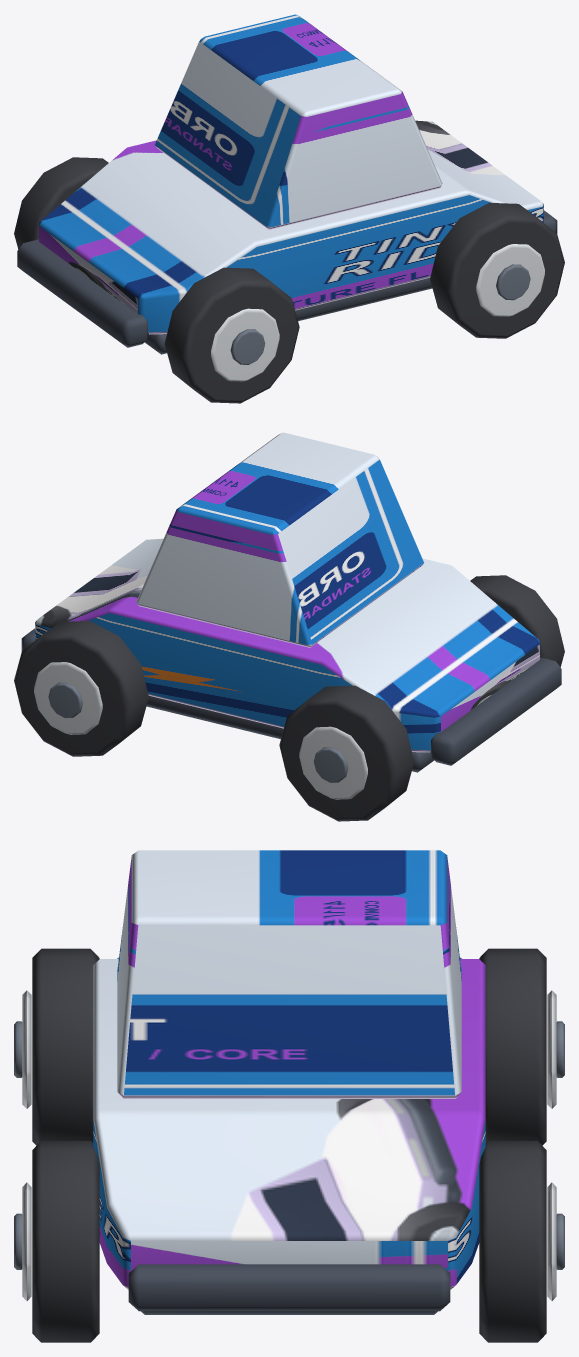
The picture shows the model from 3 angles, top to bottom: view 1: azimuth 30°, elevation 25°; view 2: azimuth 150°, elevation 25°; view 3: azimuth 270°, elevation 25°; orthographic projection. The views are drawn at different scales.
Parts seen in each view (by area): view 1: FF-02_connected_shell, FF-02_cabin, Tire.002, Tire, front bumper, Tire.001, Rim, Rim.002, underbody, Hub.002, Hub; view 2: FF-02_connected_shell, FF-02_cabin, Tire.003, Tire.001, front bumper, Tire, Rim.001, Rim.003, underbody, Hub.003, Hub.001; view 3: FF-02_cabin, FF-02_connected_shell, rear bumper, Tire.002, Tire.003, Tire, Tire.001, underbody, Rim, Rim.001, Rim.002, Rim.003.
Part boxes in pixels (left/top/right/bottom): FF-02_connected_shell: left=39, top=120, right=543, bottom=334; FF-02_cabin: left=155, top=14, right=442, bottom=229; Tire.002: left=430, top=202, right=564, bottom=338; Tire: left=164, top=267, right=299, bottom=403; front bumper: left=17, top=239, right=148, bottom=347; Tire.001: left=14, top=157, right=108, bottom=248; Rim: left=211, top=308, right=279, bottom=381; Rim.002: left=476, top=244, right=544, bottom=316; underbody: left=144, top=277, right=432, bottom=354; Hub.002: left=496, top=264, right=530, bottom=300; Hub: left=230, top=329, right=265, bottom=364; FF-02_connected_shell: left=35, top=538, right=539, bottom=752; FF-02_cabin: left=136, top=432, right=423, bottom=647; Tire.003: left=14, top=620, right=148, bottom=756; Tire.001: left=279, top=685, right=414, bottom=821; front bumper: left=430, top=657, right=561, bottom=765; Tire: left=470, top=575, right=564, bottom=666; Rim.001: left=299, top=726, right=367, bottom=799; Rim.003: left=34, top=662, right=102, bottom=734; underbody: left=146, top=695, right=434, bottom=772; Hub.003: left=48, top=682, right=82, bottom=718; Hub.001: left=313, top=747, right=348, bottom=782; FF-02_cabin: left=117, top=850, right=461, bottom=1098; FF-02_connected_shell: left=93, top=957, right=485, bottom=1289; rear bumper: left=128, top=1264, right=450, bottom=1311; Tire.002: left=32, top=1141, right=99, bottom=1342; Tire.003: left=479, top=1141, right=546, bottom=1342; Tire: left=32, top=948, right=99, bottom=1145; Tire.001: left=479, top=948, right=546, bottom=1145; underbody: left=141, top=1311, right=437, bottom=1314; Rim: left=22, top=990, right=31, bottom=1108; Rim.001: left=547, top=990, right=556, bottom=1108; Rim.002: left=22, top=1182, right=31, bottom=1300; Rim.003: left=547, top=1182, right=556, bottom=1300.
Size of the model in its own units: 288 by 154 by 212.
